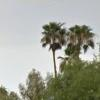Tree: (34, 10, 100, 77)
